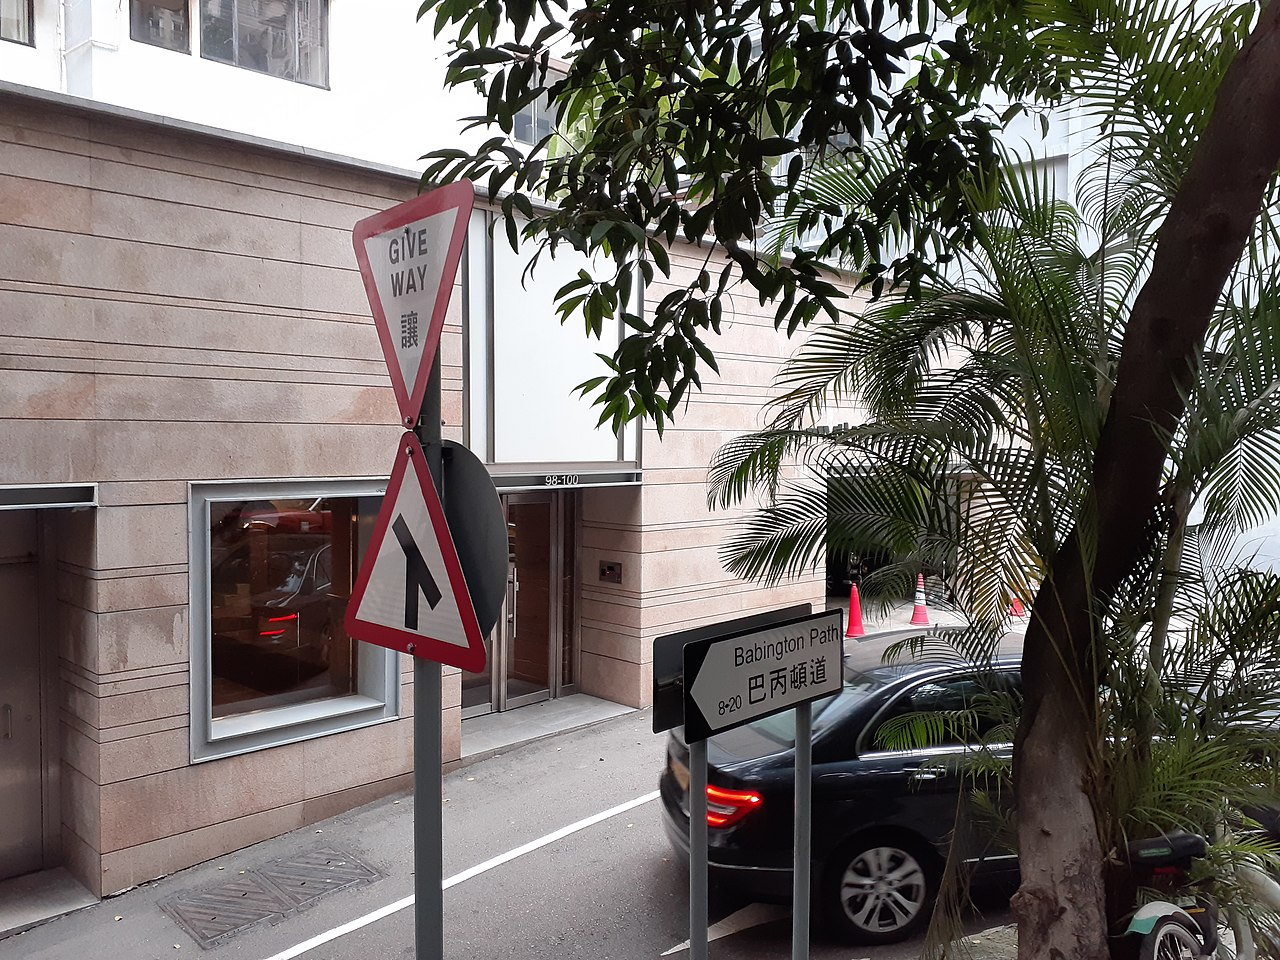Give Way: (337, 175, 480, 428)
Merging: (327, 432, 502, 677)
